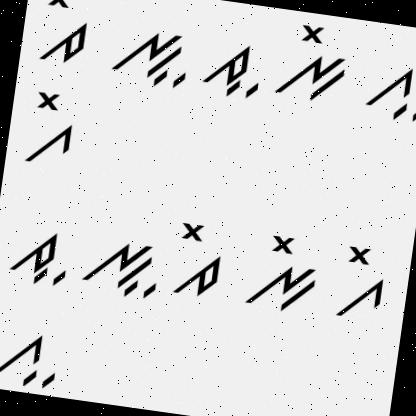gah: (0, 317, 65, 393), (362, 55, 416, 126)
go: (333, 235, 395, 325), (21, 81, 82, 171)
ngah: (110, 19, 192, 92), (80, 229, 162, 302)
ngo: (240, 222, 325, 317), (273, 14, 356, 108)
tah: (5, 218, 76, 290), (197, 34, 268, 104)
to: (170, 214, 230, 301), (27, 0, 94, 68)
